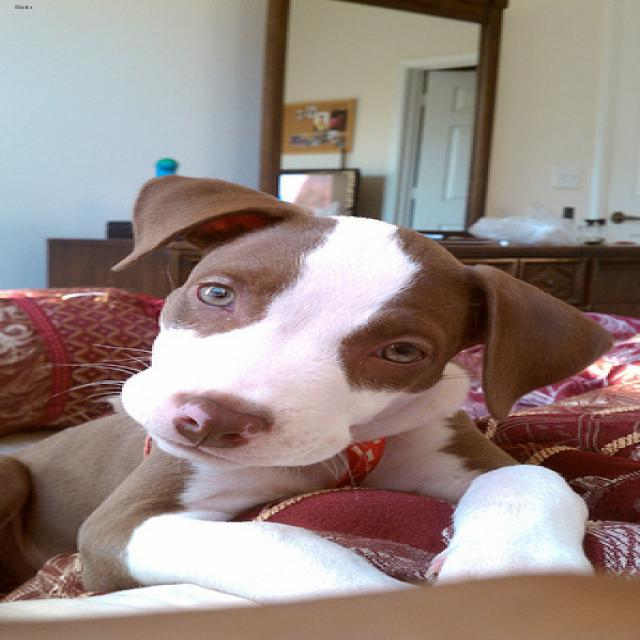dog-american_pit_bull_terrier: (2, 166, 627, 617)
